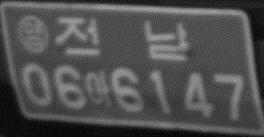0: (21, 62, 52, 107)
1: (146, 68, 177, 116)
4: (181, 73, 213, 119)
6: (111, 67, 145, 113), (53, 63, 86, 110)
7: (213, 72, 245, 119)
아: (86, 69, 111, 108)
영: (16, 14, 50, 54)
전남_D: (54, 17, 191, 61)
